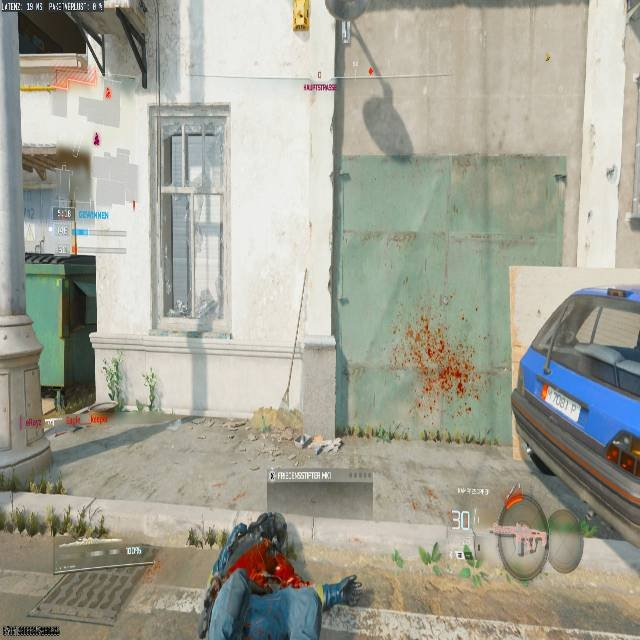head: (255, 512, 287, 555)
player: (198, 512, 361, 639)
